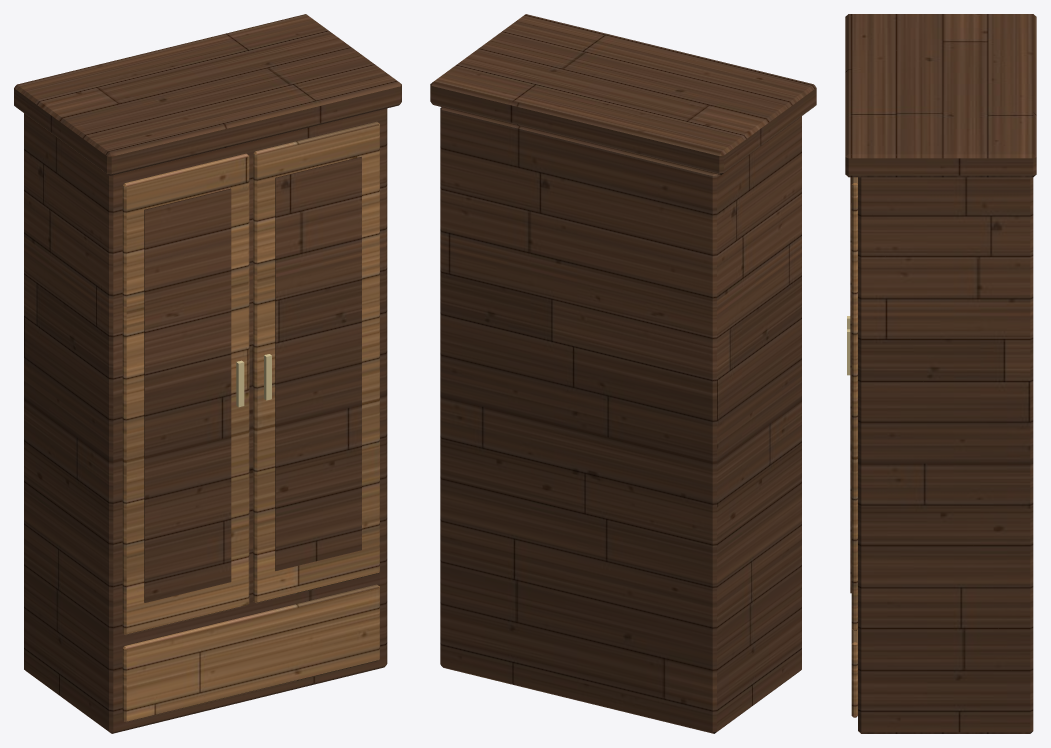
File: wardrobe.glb
The picture shows the model from 3 angles, left to right: view 1: azimuth 30°, elevation 25°; view 2: azimuth 150°, elevation 25°; view 3: azimuth 270°, elevation 25°; orthographic projection.
Parts seen in each view (by area): view 1: wardrobe_dkwood, wardrobe_wood, wardrobe_brass; view 2: wardrobe_dkwood; view 3: wardrobe_dkwood, wardrobe_wood.
Part boxes in pixels (x1,y1,x2,y2): wardrobe_dkwood: [14, 14, 401, 733]; wardrobe_wood: [122, 121, 379, 722]; wardrobe_brass: [236, 354, 271, 407]; wardrobe_dkwood: [430, 14, 816, 733]; wardrobe_dkwood: [845, 14, 1036, 733]; wardrobe_wood: [851, 177, 857, 717].
Size of the model in its own units: 1.06 by 2.02 by 0.6.
Materials: 3 (2 with a texture image).
